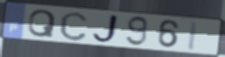6: (157, 19, 181, 49)
9: (124, 15, 150, 48)
C: (58, 11, 90, 42)
I: (185, 20, 200, 52)
J: (90, 13, 121, 45)
Q: (26, 8, 58, 39)
